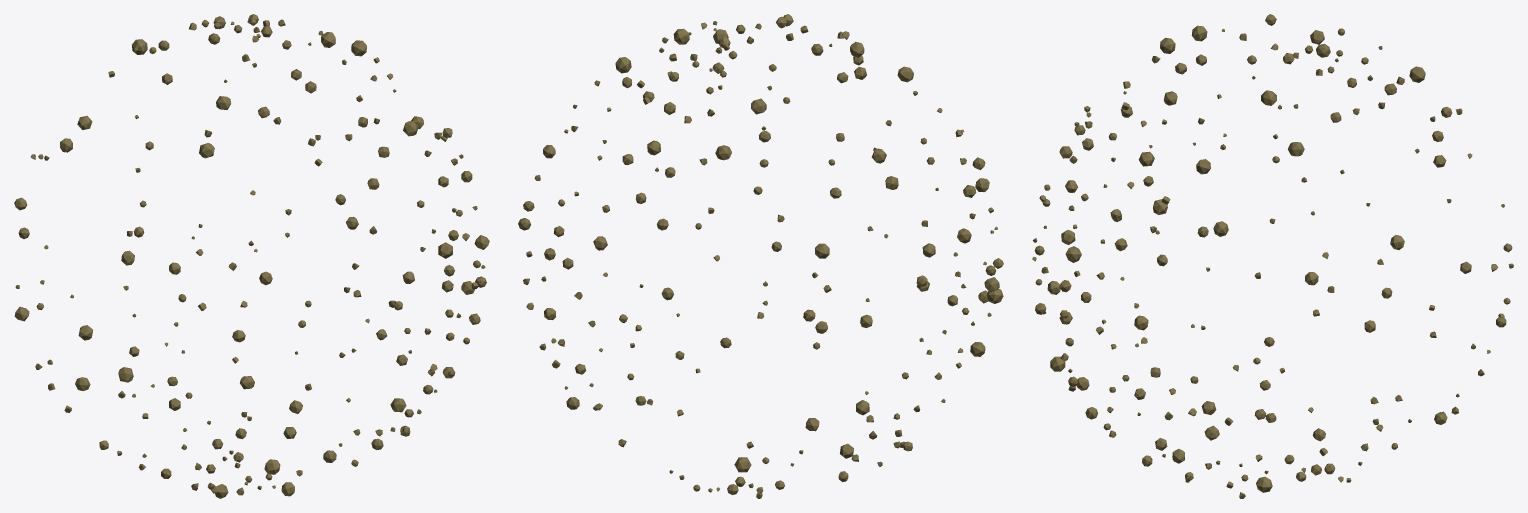
File: Asteroid_outer_001.FBX
3 renders of one model, left to right at view 1: azimuth 30°, elevation 25°; view 2: azimuth 150°, elevation 25°; view 3: azimuth 270°, elevation 25°, orthographic.
Parts seen in each view (by area): view 1: ASTEROIDS_OUTER; view 2: ASTEROIDS_OUTER; view 3: ASTEROIDS_OUTER.
Boxes of the visible parts, x1=… form: ASTEROIDS_OUTER: x1=14, y1=14, x2=489, y2=498; ASTEROIDS_OUTER: x1=518, y1=14, x2=1003, y2=498; ASTEROIDS_OUTER: x1=1032, y1=14, x2=1513, y2=498.
Bounding box in the file's own units: 12.14 × 12.22 × 12.05.
